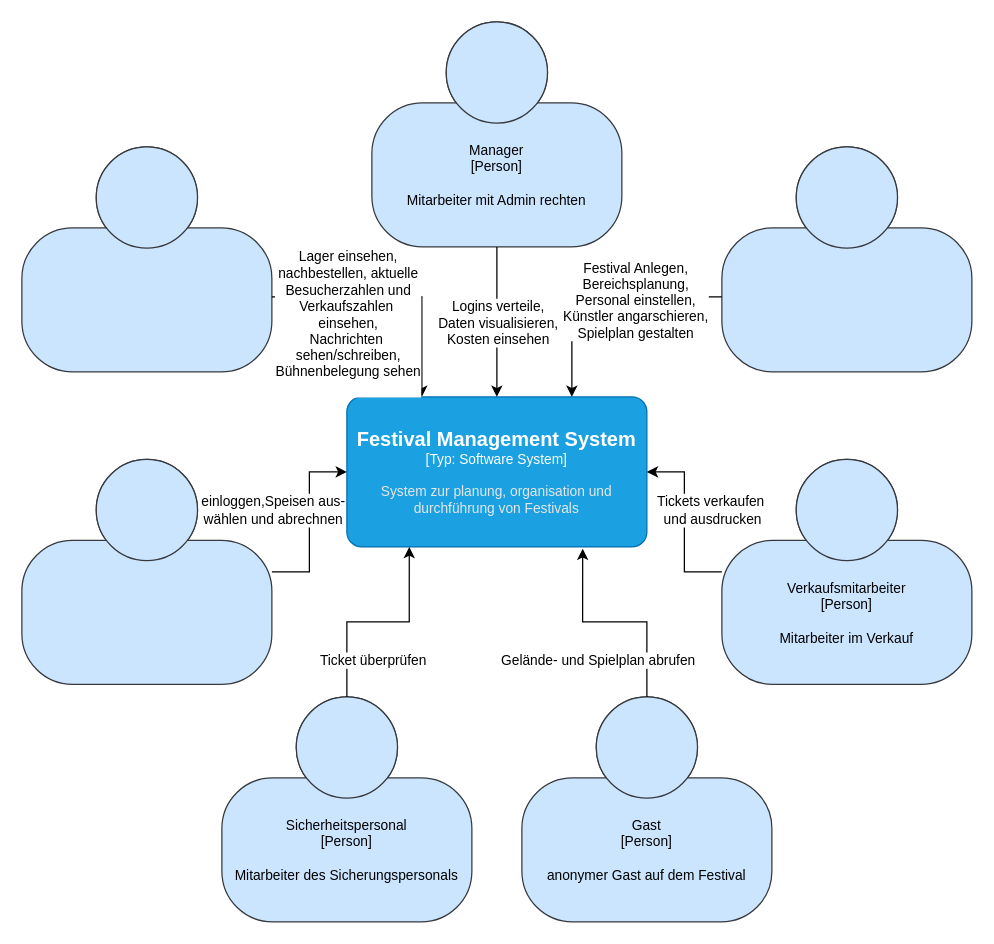
Some shapes in this 994 by 944 pixel diagram are drawn without their labels. The box of each missing label's shape, as (x1, y1, x2, y2) in pixels:
Cateringpersonal [Person] Mitarbeiter des Caterings: (21, 458, 272, 684)
Festivalleiter [Person] Festgelegte Leiter des Festivals: (21, 146, 272, 372)
Planer [Person] Mitarbeiter der Planungsabteilung: (721, 146, 972, 372)
